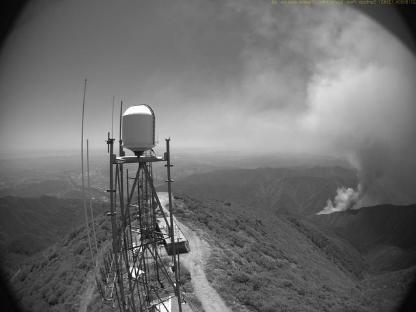smoke: (314, 10, 416, 216)
